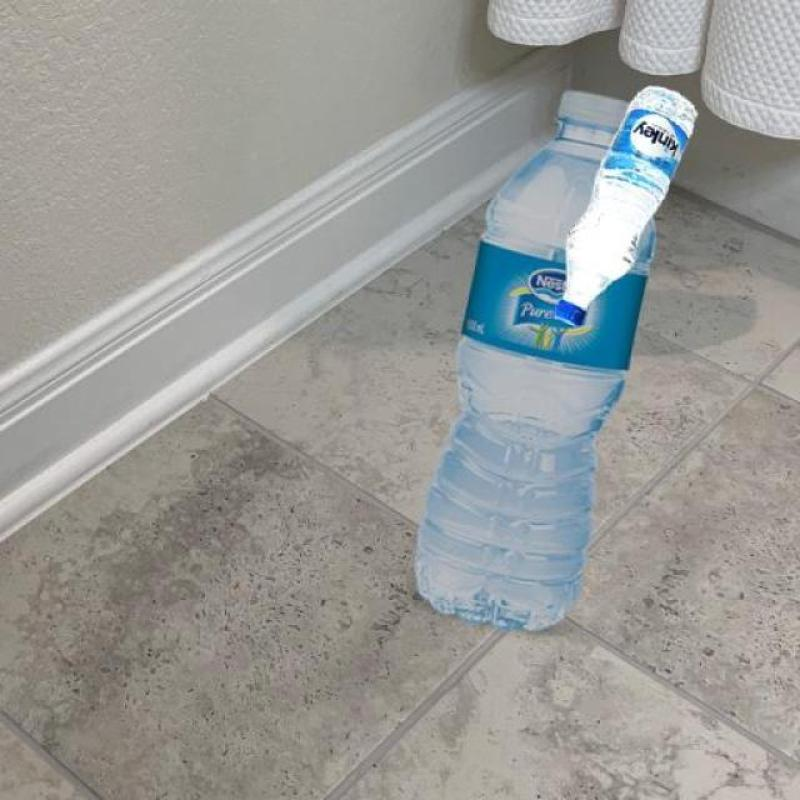botella: (411, 87, 653, 626), (557, 80, 705, 322)
